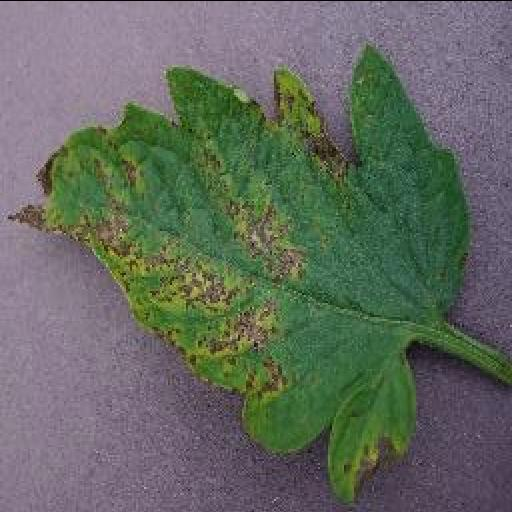disease_tomato: (8, 42, 470, 494)
